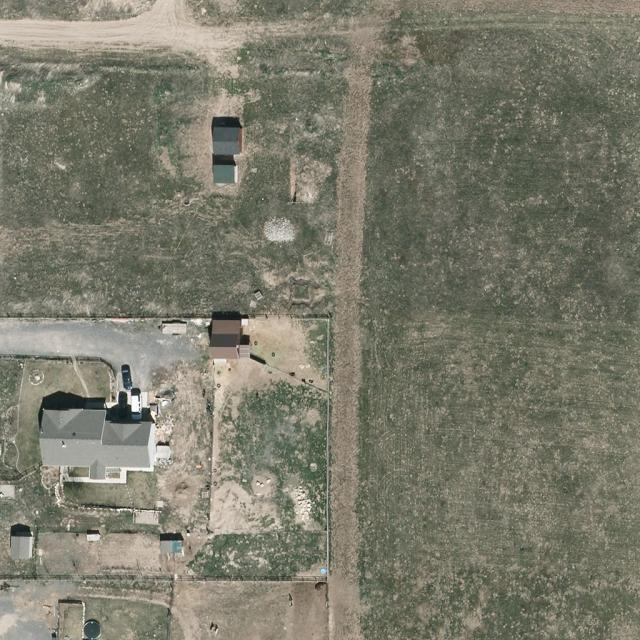vehicle: (117, 393, 129, 419), (131, 394, 142, 420), (120, 368, 133, 389)
